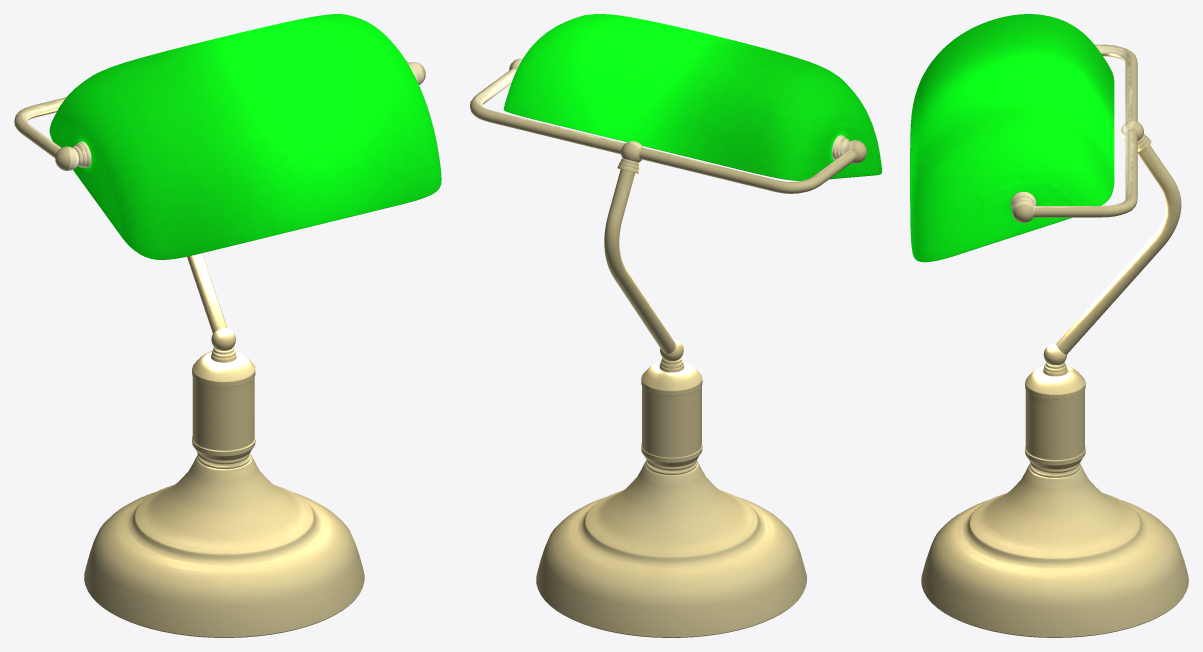
File: lamp16039.glb
3 views of the same model, side by side, from view 1: azimuth 30°, elevation 25°; view 2: azimuth 150°, elevation 25°; view 3: azimuth 270°, elevation 25° (orthographic). The views are drawn at different scales.
Parts seen in each view (by area): view 1: lamp16039; view 2: lamp16039; view 3: lamp16039.
Boxes of the visible parts, left/top/right/bottom form: lamp16039: left=14, top=14, right=441, bottom=637; lamp16039: left=470, top=14, right=881, bottom=637; lamp16039: left=910, top=14, right=1188, bottom=637.
Size of the model in its own units: 0.26 by 0.37 by 0.18.
Materials: 4 (3 with a texture image).
